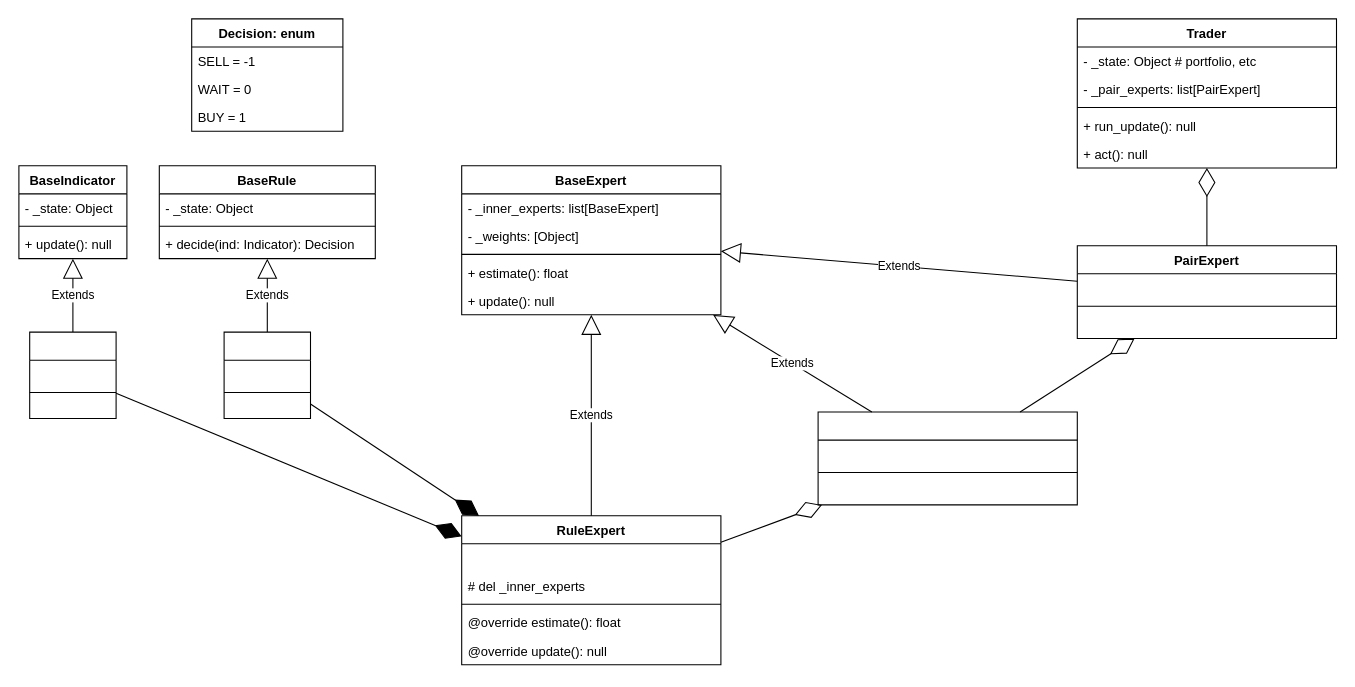
Some shapes in this 1355 by 687 pixel diagram are drawn without their labels. Here are the shapes that lost their labels. From the top down, the centre of each, then its label:
At point 72,374: "[Ind]".
At point 266,374: "[Rule]".
At point 947,458: "TimeFrameExpert".
